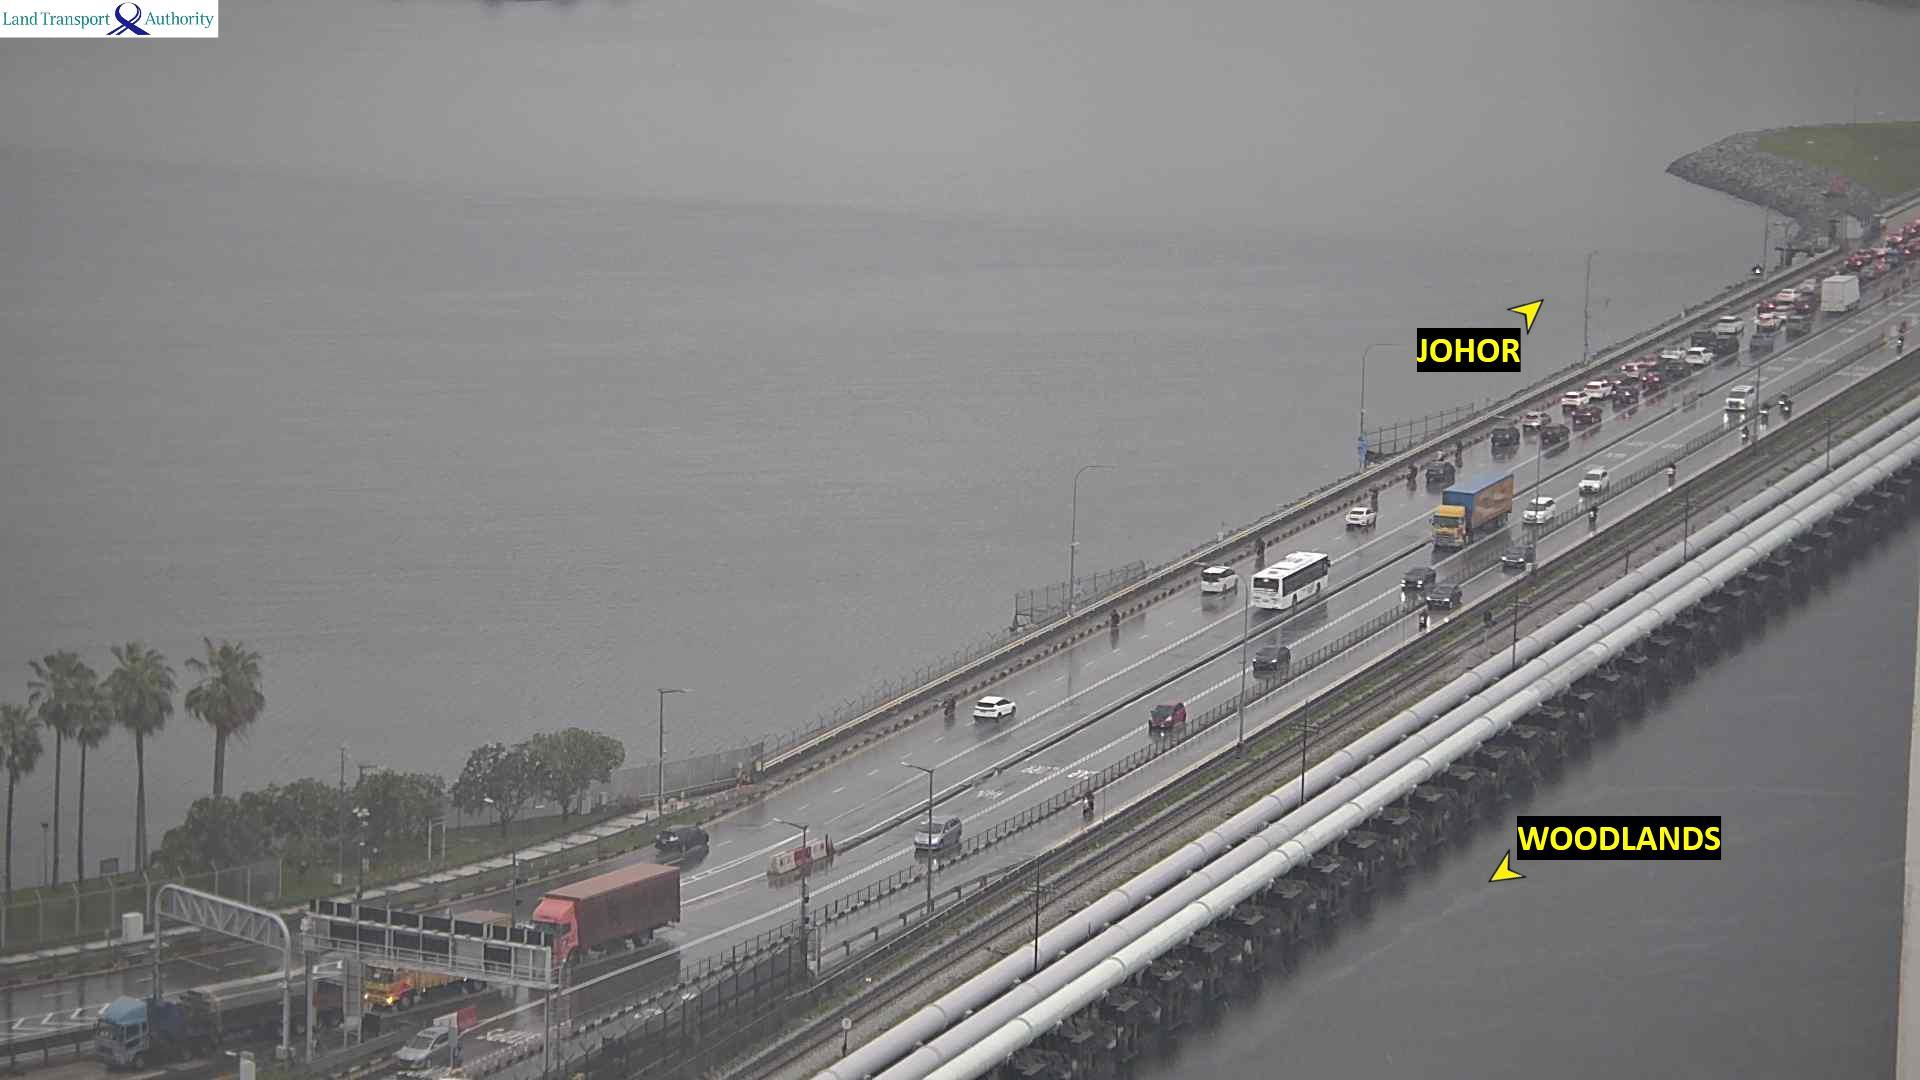vehicle-causeway-johor: (1253, 557, 1332, 597), (1824, 276, 1856, 310), (655, 827, 706, 848), (971, 700, 1016, 721), (1202, 567, 1235, 590), (1426, 461, 1454, 483), (1347, 513, 1380, 531), (1560, 392, 1588, 410), (1786, 314, 1810, 335), (1613, 383, 1638, 403), (1718, 315, 1744, 334), (1491, 425, 1518, 443), (1542, 422, 1569, 440), (1572, 405, 1600, 422), (1523, 411, 1550, 428), (1711, 335, 1738, 352), (1794, 293, 1818, 311), (1686, 346, 1711, 363), (1642, 369, 1665, 387), (1585, 381, 1610, 397), (1751, 335, 1773, 351), (1666, 361, 1688, 376), (1758, 315, 1781, 329), (1693, 329, 1713, 345), (1715, 336, 1737, 350), (1775, 290, 1798, 303), (1622, 364, 1645, 377), (1801, 277, 1819, 291), (942, 691, 954, 712), (1759, 315, 1775, 330), (1845, 257, 1863, 270), (1111, 608, 1120, 625), (1407, 462, 1416, 478), (1454, 440, 1463, 455), (1369, 484, 1379, 497)
vehicle-causeway-singapore: (96, 965, 376, 1045), (536, 876, 685, 952), (1434, 473, 1517, 534), (394, 1026, 462, 1068), (915, 819, 964, 850), (1148, 701, 1185, 729), (1253, 647, 1290, 671), (1525, 503, 1561, 525), (1726, 385, 1752, 412), (1578, 468, 1607, 492), (1495, 548, 1531, 567), (1424, 594, 1465, 610), (1402, 568, 1434, 588), (1081, 791, 1095, 811), (1587, 502, 1599, 522), (1776, 390, 1787, 406), (1761, 402, 1769, 420), (1668, 460, 1675, 479), (1784, 399, 1792, 414), (1742, 425, 1748, 442), (1896, 336, 1902, 351)
